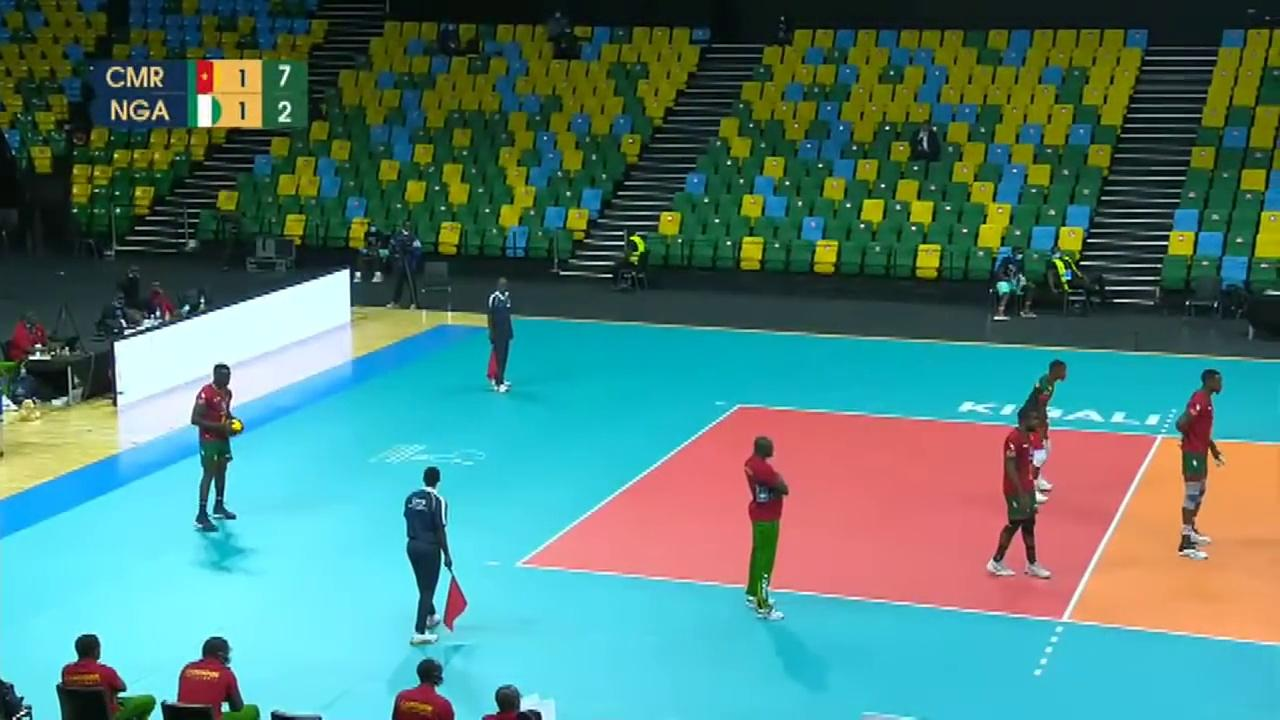player: (993, 408, 1055, 588), (1178, 372, 1229, 554), (190, 367, 244, 527), (1019, 354, 1071, 499)
refree: (403, 469, 463, 639), (482, 277, 514, 394)
